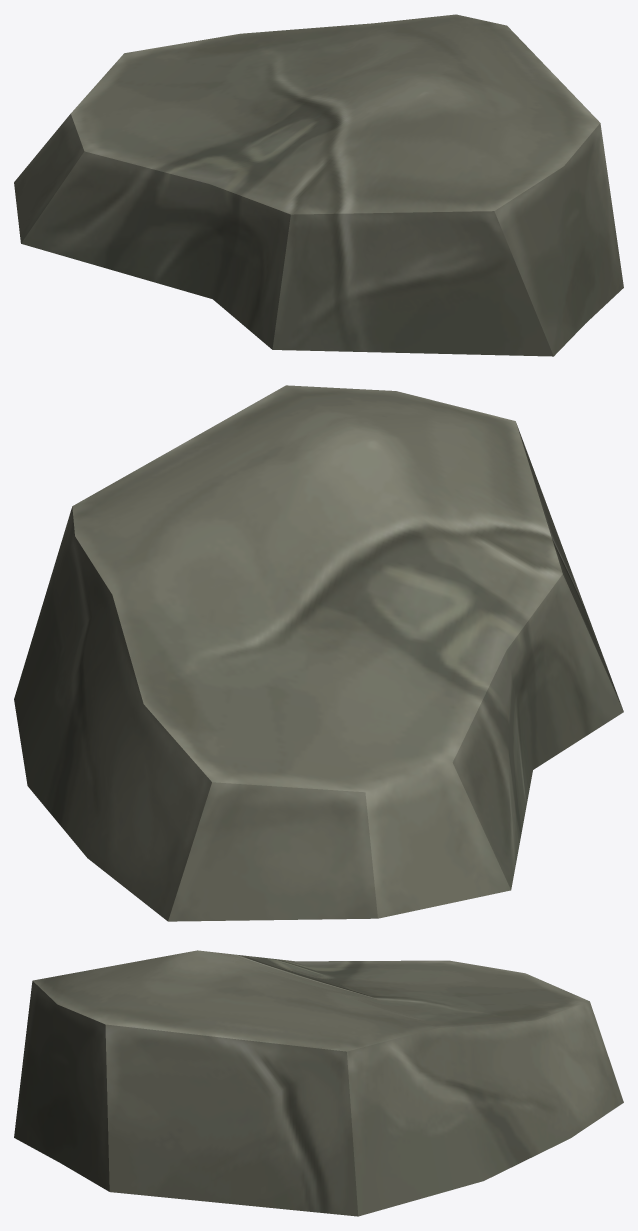
Rendered from Rock_07.fbx.
3 renders of one model, top to bottom at view 1: azimuth 30°, elevation 25°; view 2: azimuth 150°, elevation 25°; view 3: azimuth 270°, elevation 25°, orthographic. The views are drawn at different scales.
Visible parts, largest first — view 1: polySurface566; view 2: polySurface566; view 3: polySurface566.
Part boxes in pixels (x1,y1,x2,y2): polySurface566: (14, 14, 623, 356); polySurface566: (14, 385, 623, 921); polySurface566: (14, 950, 623, 1216).
Size of the model in its own units: 68.45 by 28.49 by 86.49.
1 material, 1 textured.
